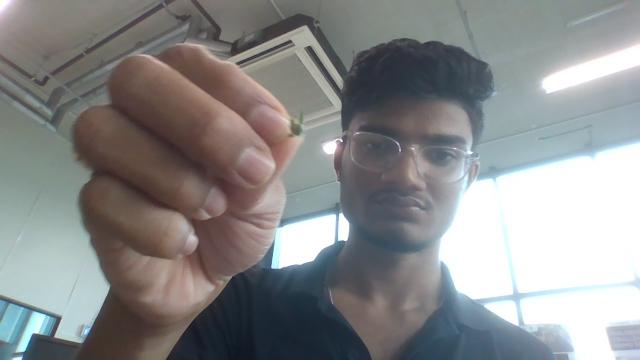Fruit Bud: (289, 114, 305, 137)
